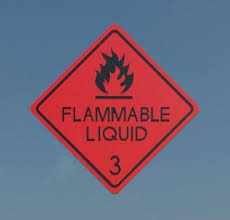FlammableLiquid: (35, 25, 198, 193)
